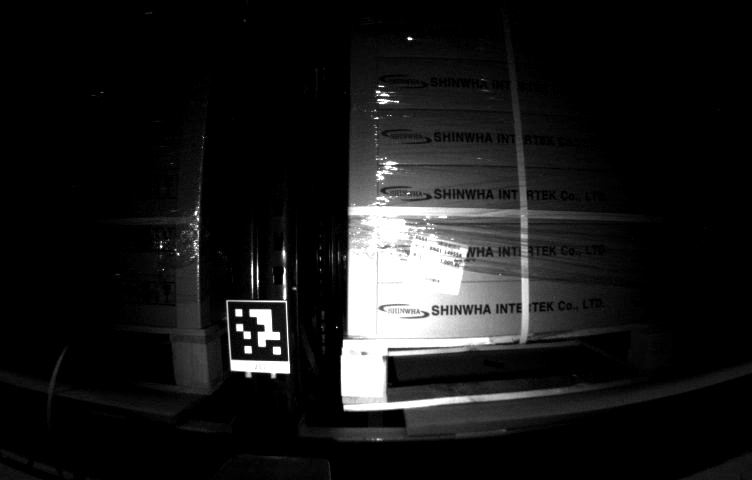True Barcode: (404, 234, 465, 291)
